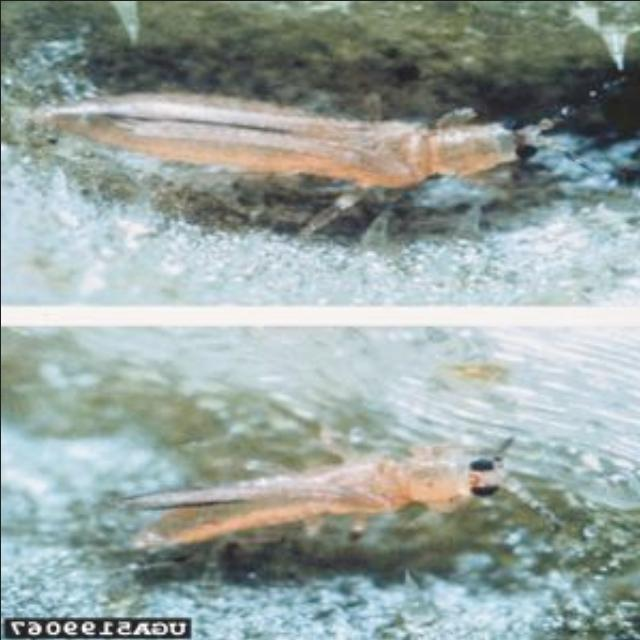melon thrips: (32, 47, 550, 261), (109, 395, 546, 575)
